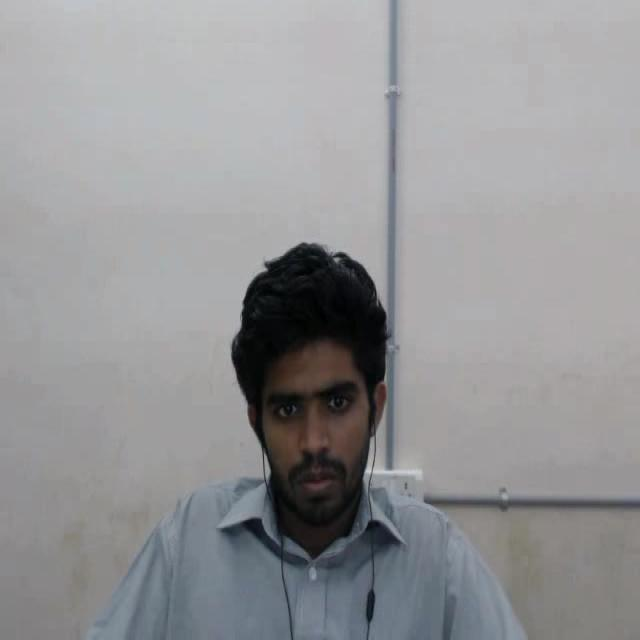Engaged: (231, 220, 402, 560)
